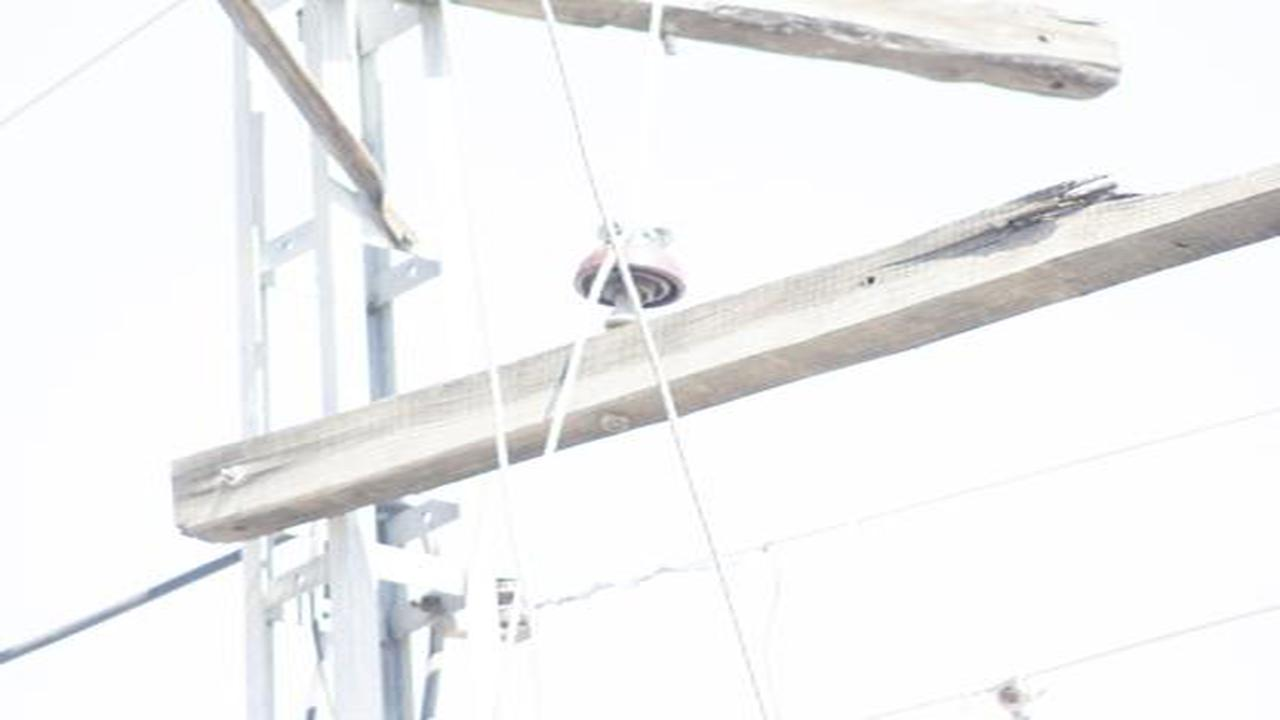insulator_pin: (570, 210, 688, 311)
